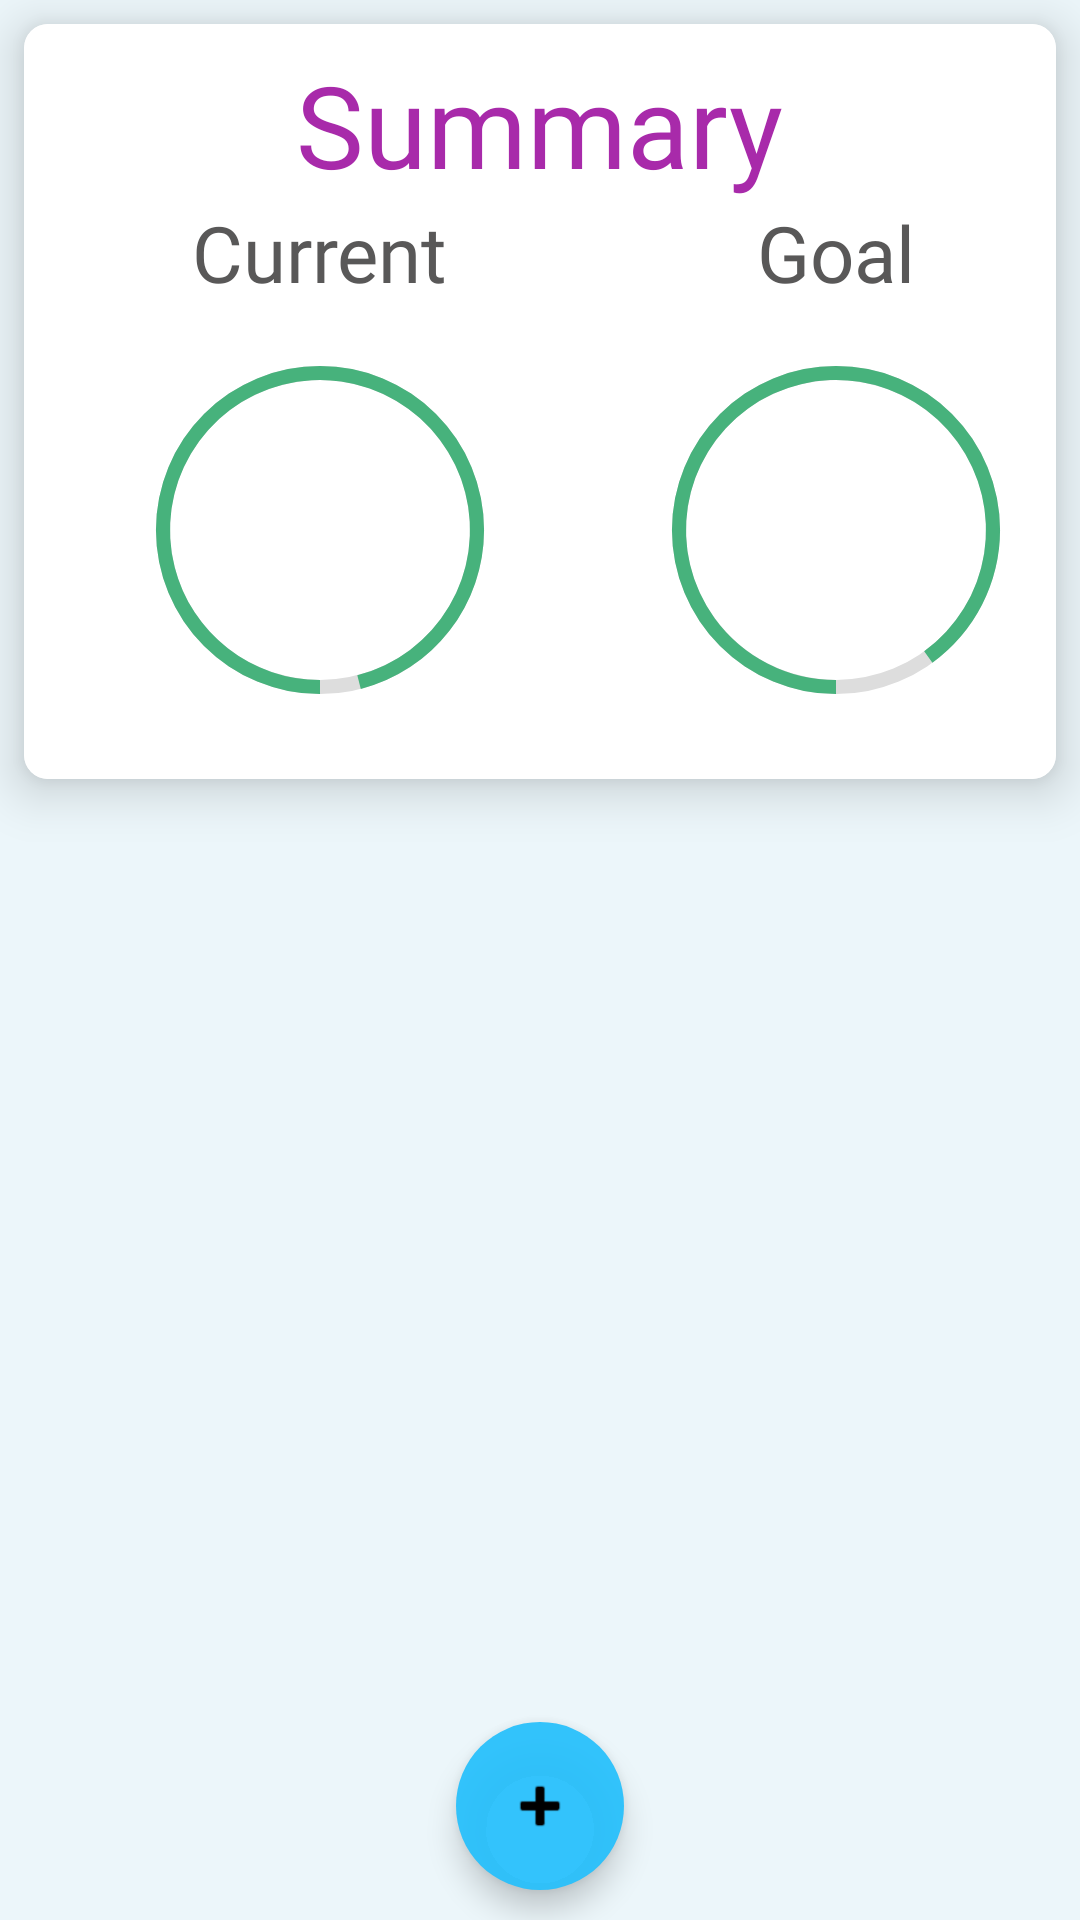

Icon bounding boxes for this 1080x1920 phone screenshot, format (x1, y1, x2, y2):
Add: (456, 1722, 624, 1890)
